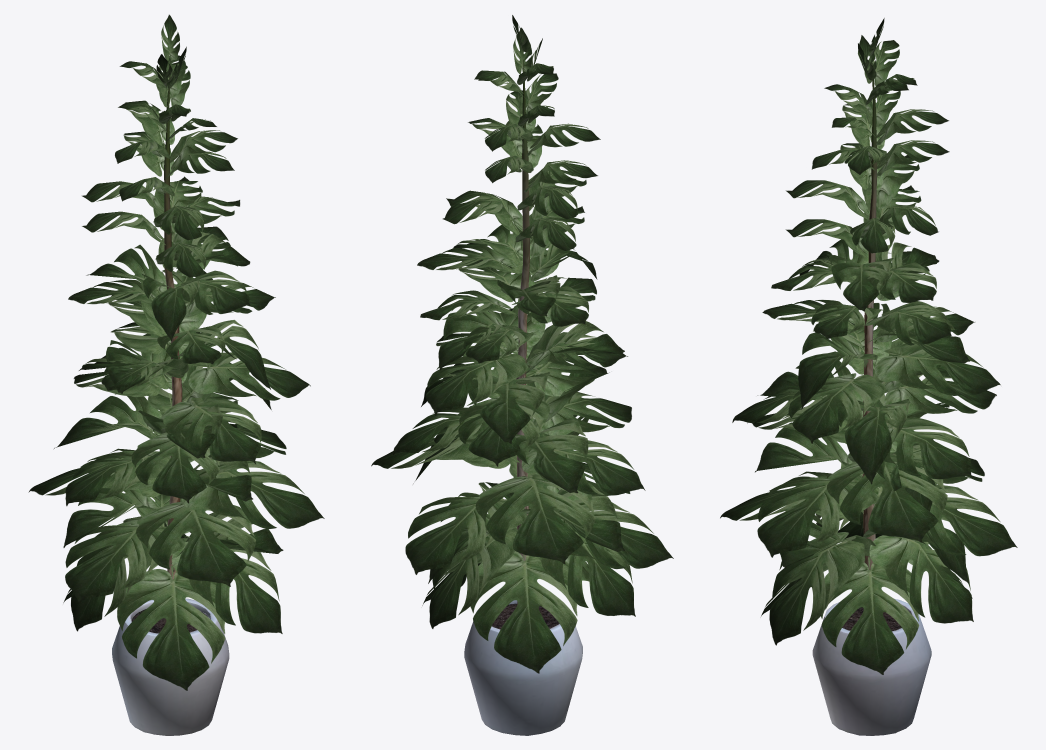
File: potted_plant.glb
3 renders of one model, left to right at view 1: azimuth 30°, elevation 25°; view 2: azimuth 150°, elevation 25°; view 3: azimuth 270°, elevation 25°, orthographic.
Parts seen in each view (by area): view 1: leaves3_pasted__lambert4_0, base3_pasted__lambert652_0; view 2: leaves3_pasted__lambert4_0, base3_pasted__lambert652_0; view 3: leaves3_pasted__lambert4_0, base3_pasted__lambert652_0.
Part boxes in pixels (bbox=[...]): leaves3_pasted__lambert4_0: bbox=[28, 14, 324, 690]; base3_pasted__lambert652_0: bbox=[112, 75, 229, 735]; leaves3_pasted__lambert4_0: bbox=[371, 15, 673, 673]; base3_pasted__lambert652_0: bbox=[464, 59, 582, 735]; leaves3_pasted__lambert4_0: bbox=[720, 18, 1017, 674]; base3_pasted__lambert652_0: bbox=[812, 63, 931, 735].
Bounding box in the file's own units: 0.9813 × 2.39 × 0.9845.
Materials: 2 (2 with a texture image).
